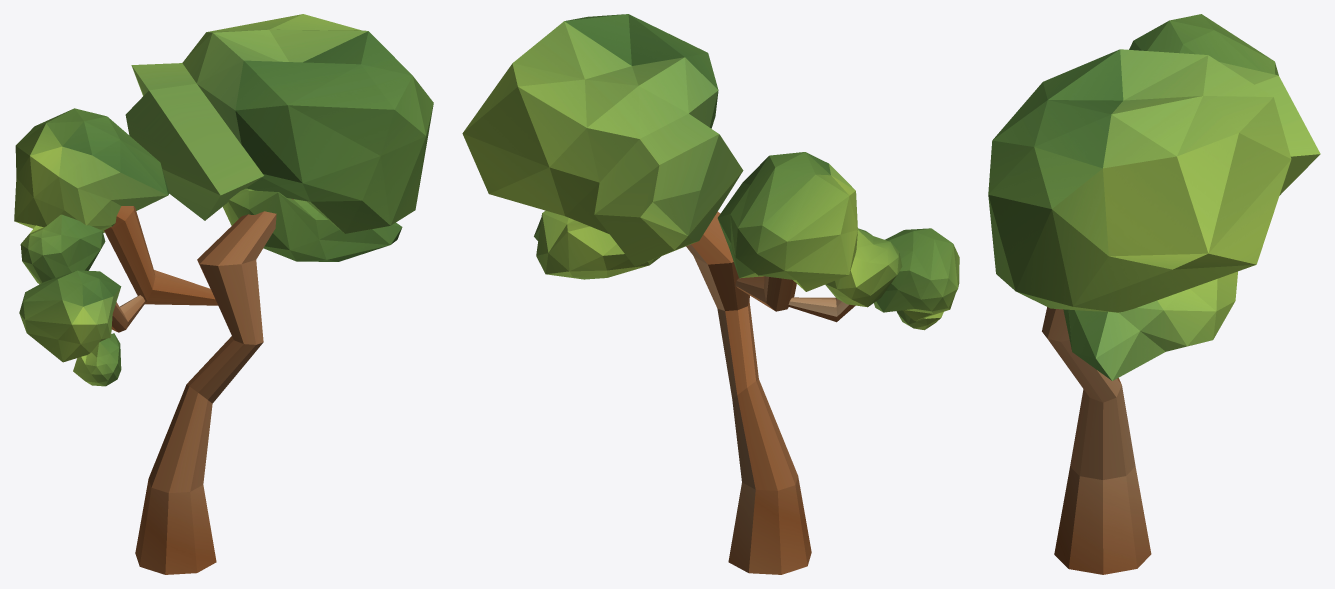
The model's file is Tree_Regular_1.fbx.
The picture shows the model from 3 angles, left to right: view 1: azimuth 30°, elevation 25°; view 2: azimuth 150°, elevation 25°; view 3: azimuth 270°, elevation 25°; orthographic projection. The views are drawn at different scales.
Visible parts, largest first — view 1: tree1; view 2: tree1; view 3: tree1.
Boxes of the visible parts, left/top/right/bottom form: tree1: left=14, top=14, right=433, bottom=574; tree1: left=462, top=14, right=959, bottom=574; tree1: left=988, top=14, right=1320, bottom=574.
Size of the model in its own units: 864 by 936 by 512.
Materials: 1 (1 with a texture image).
